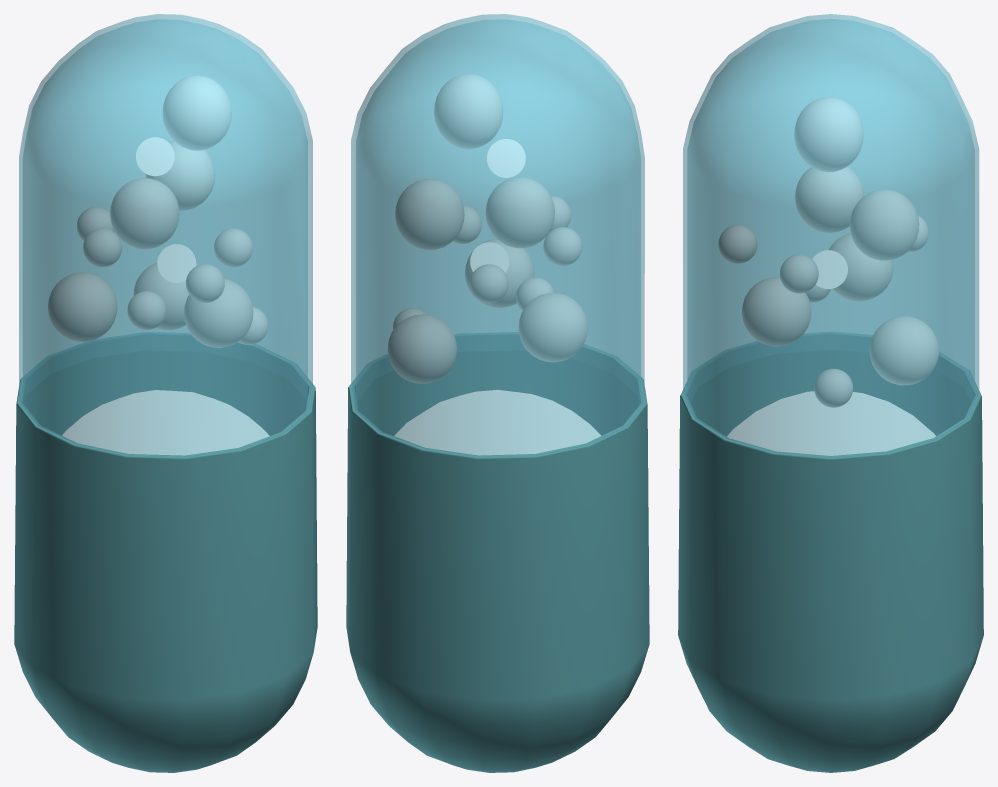
Rendered from model-pill-water.glb.
3 renders of one model, left to right at view 1: azimuth 30°, elevation 25°; view 2: azimuth 150°, elevation 25°; view 3: azimuth 270°, elevation 25°, orthographic.
Parts seen in each view (by area): view 1: polySurface3_2.001, polySurface3_1.001, Sphere.013, Sphere.002, Sphere.003, Sphere.004, Sphere, Sphere.005, Sphere.001, Sphere.010, Sphere.007, Sphere.009 (+5 smaller); view 2: polySurface3_2.001, polySurface3_1.001, Sphere.013, Sphere.002, Sphere.003, Sphere.005, Sphere.004, Sphere.001, Sphere, Sphere.007, Sphere.006, Sphere.010 (+3 smaller); view 3: polySurface3_2.001, polySurface3_1.001, Sphere.013, Sphere.002, Sphere.005, Sphere.001, Sphere, Sphere.003, Sphere.004, Sphere.009, Sphere.012, Sphere.008 (+1 smaller).
Part boxes in pixels (x1=…): polySurface3_2.001: x1=19, y1=14, x2=312, y2=456; polySurface3_1.001: x1=14, y1=332, x2=317, y2=772; Sphere.013: x1=62, y1=390, x2=268, y2=455; Sphere.002: x1=163, y1=75, x2=231, y2=150; Sphere.003: x1=110, y1=178, x2=179, y2=248; Sphere.004: x1=48, y1=272, x2=116, y2=341; Sphere: x1=184, y1=279, x2=252, y2=347; Sphere.005: x1=146, y1=141, x2=214, y2=210; Sphere.001: x1=134, y1=263, x2=188, y2=329; Sphere.010: x1=83, y1=228, x2=121, y2=266; Sphere.007: x1=136, y1=137, x2=174, y2=175; Sphere.009: x1=186, y1=264, x2=224, y2=302; polySurface3_2.001: x1=351, y1=14, x2=644, y2=456; polySurface3_1.001: x1=346, y1=332, x2=649, y2=772; Sphere.013: x1=395, y1=390, x2=600, y2=455; Sphere.002: x1=434, y1=74, x2=502, y2=148; Sphere.003: x1=486, y1=177, x2=554, y2=247; Sphere.005: x1=395, y1=179, x2=464, y2=249; Sphere.004: x1=519, y1=293, x2=587, y2=361; Sphere.001: x1=388, y1=314, x2=456, y2=383; Sphere: x1=465, y1=239, x2=533, y2=307; Sphere.007: x1=487, y1=139, x2=525, y2=177; Sphere.006: x1=470, y1=264, x2=508, y2=302; Sphere.010: x1=543, y1=227, x2=581, y2=265; polySurface3_2.001: x1=683, y1=14, x2=979, y2=457; polySurface3_1.001: x1=678, y1=332, x2=983, y2=772; Sphere.013: x1=727, y1=391, x2=935, y2=455; Sphere.002: x1=794, y1=97, x2=863, y2=171; Sphere.005: x1=850, y1=190, x2=918, y2=260; Sphere.001: x1=870, y1=316, x2=938, y2=384; Sphere: x1=742, y1=277, x2=810, y2=346; Sphere.003: x1=795, y1=167, x2=863, y2=232; Sphere.004: x1=829, y1=233, x2=893, y2=300; Sphere.009: x1=718, y1=225, x2=756, y2=263; Sphere.012: x1=814, y1=369, x2=852, y2=407; Sphere.008: x1=780, y1=255, x2=818, y2=292.
Size of the model in its own units: 0.0641 by 0.169 by 0.0641.
